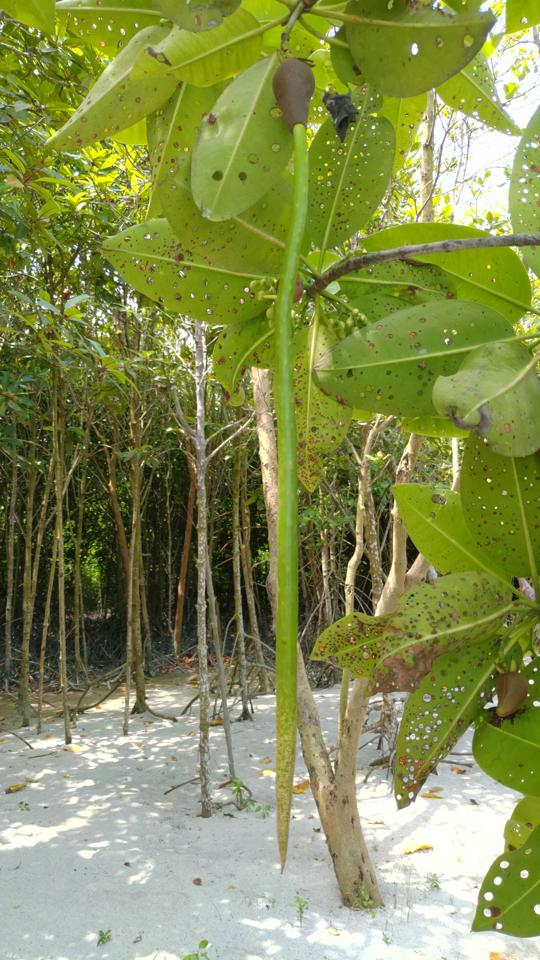mentah: (239, 58, 338, 889)
